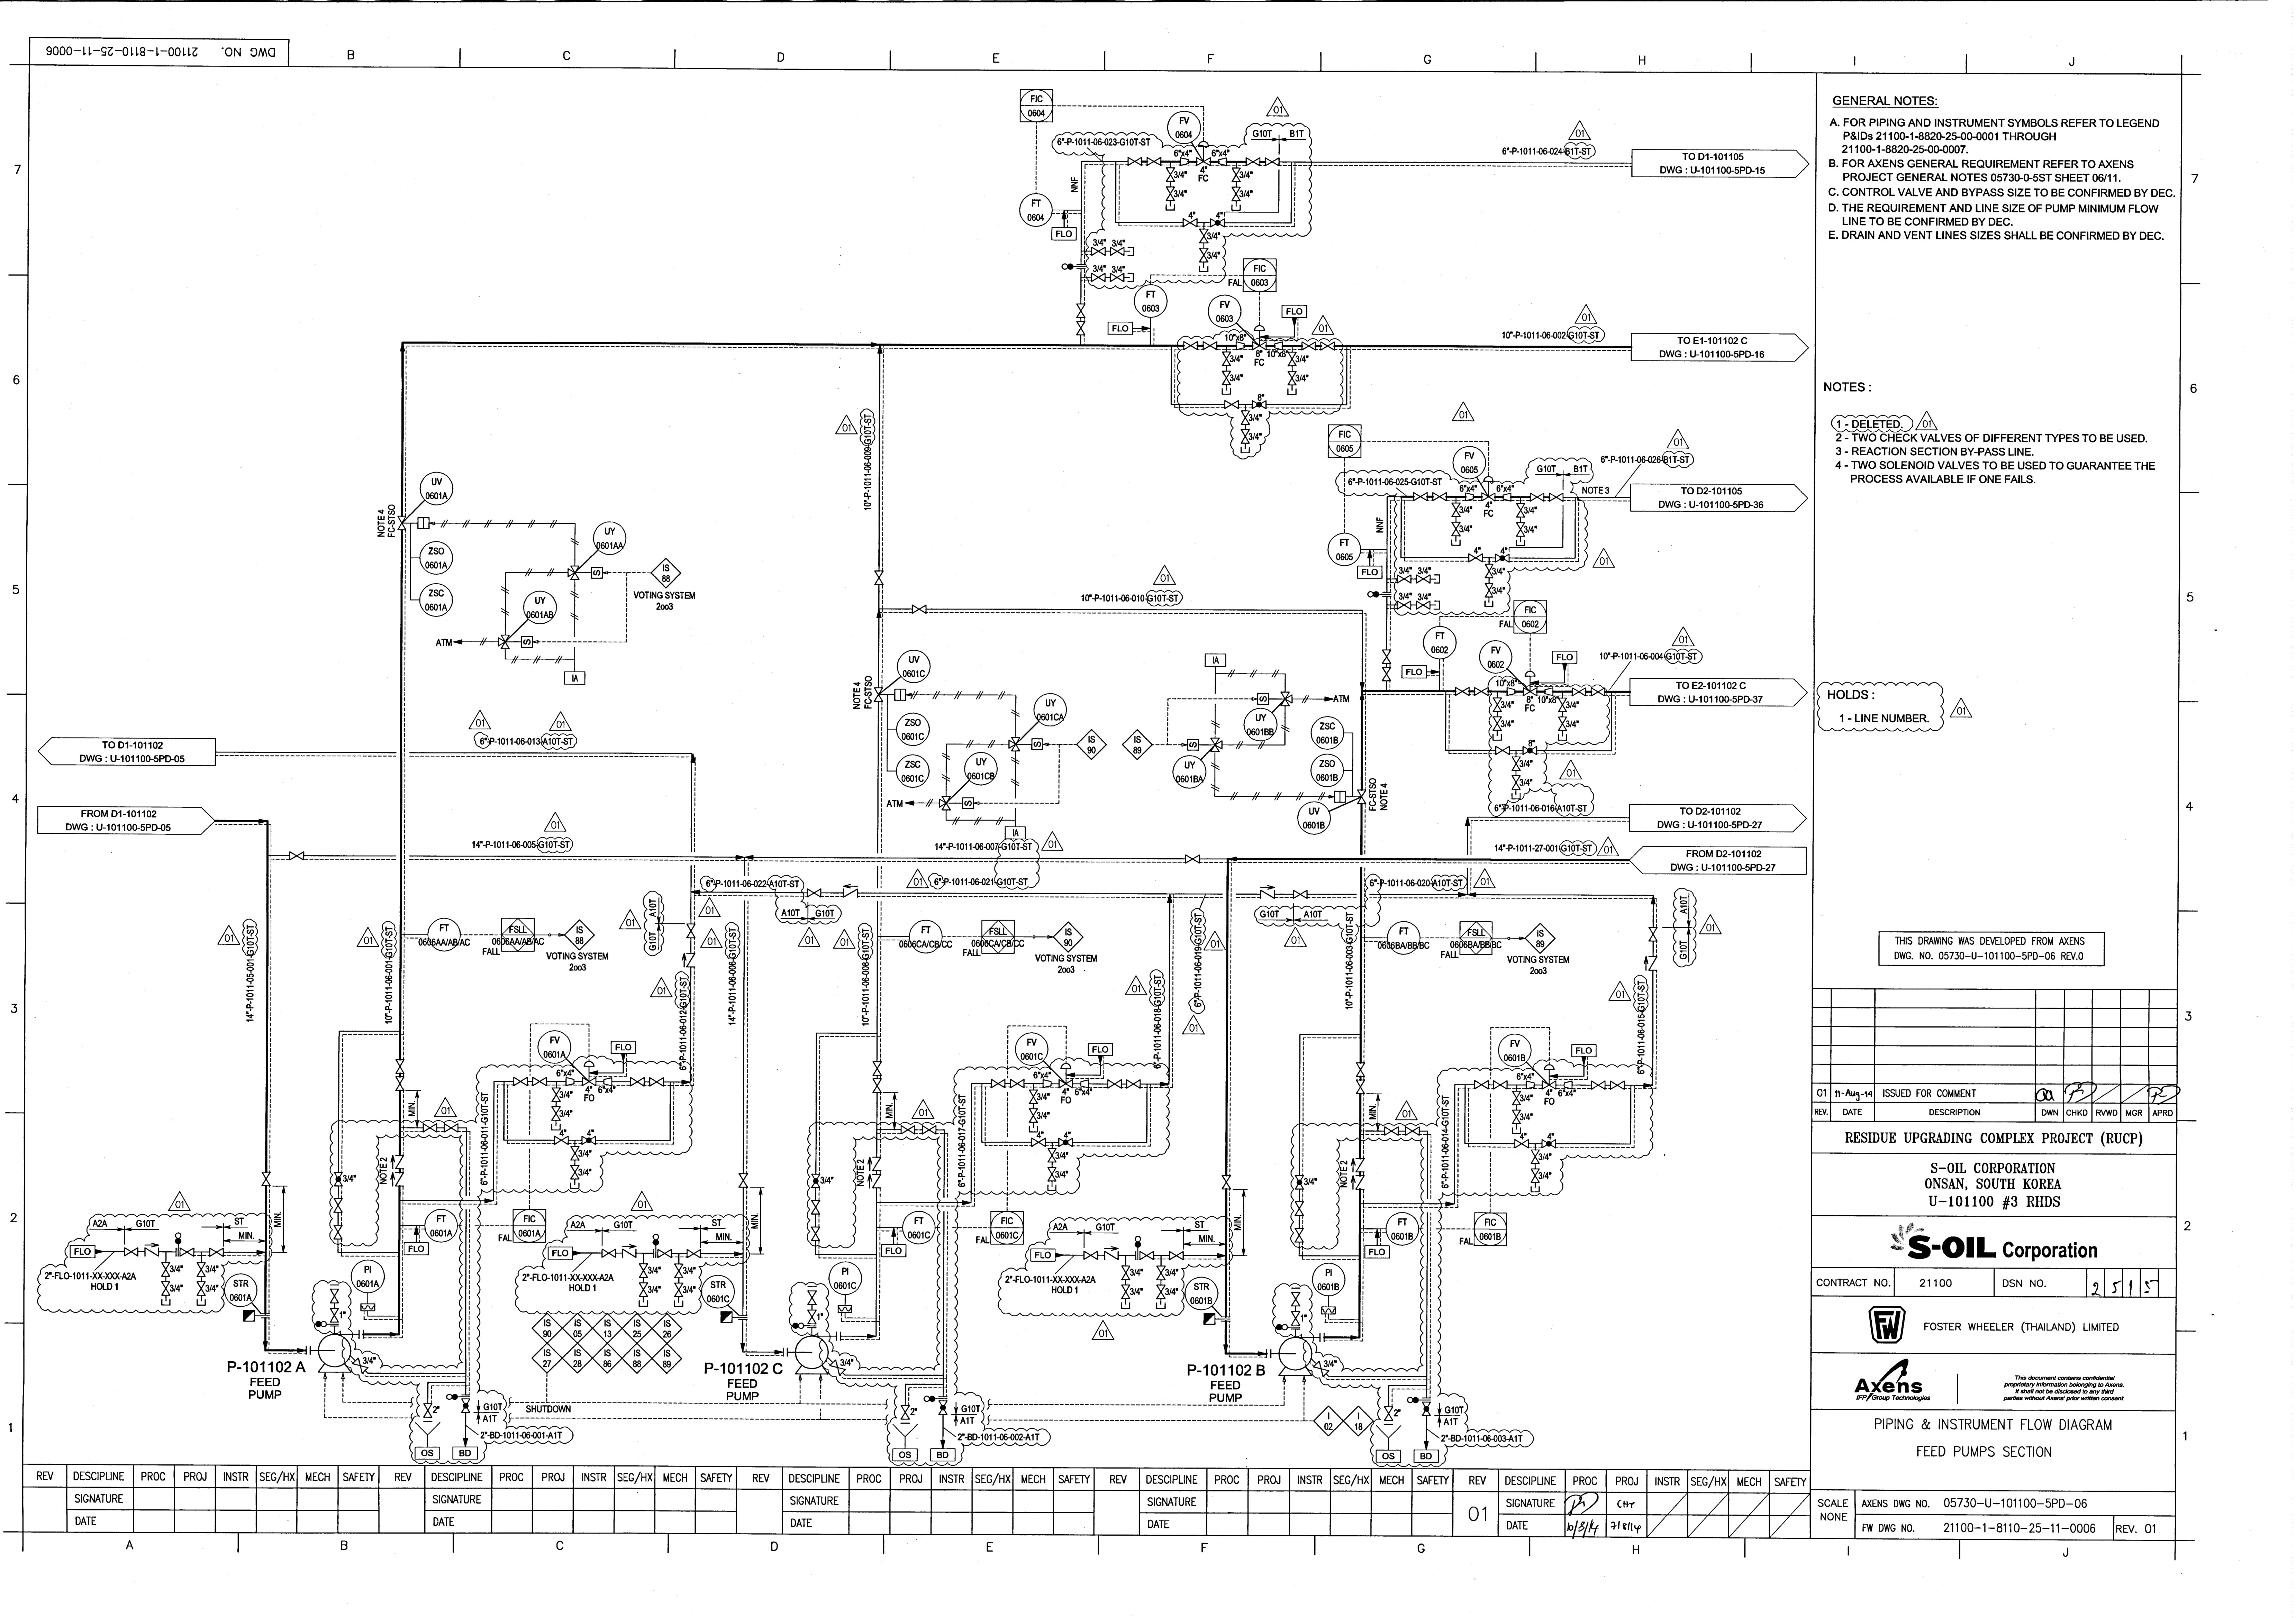NAS: (1312, 1404, 1345, 1438), (1254, 688, 1296, 709), (1186, 735, 1226, 755), (1328, 788, 1368, 807), (1275, 1361, 1298, 1378), (1441, 1432, 1462, 1446), (1487, 734, 1510, 744), (1301, 1362, 1315, 1378), (1321, 1305, 1336, 1317), (1317, 1331, 1328, 1345), (1406, 1394, 1420, 1404), (1198, 264, 1210, 273), (1165, 203, 1177, 212), (1126, 245, 1135, 257), (1285, 387, 1298, 396), (1483, 599, 1496, 608), (1557, 734, 1569, 742), (1529, 1185, 1541, 1194), (1229, 205, 1242, 212), (1126, 271, 1133, 284), (1515, 539, 1527, 546), (196, 1299, 208, 1306), (159, 1299, 172, 1306), (1240, 447, 1250, 454)
butterfly0: (1520, 744, 1541, 756), (1539, 1138, 1559, 1150), (1208, 217, 1228, 228), (581, 1135, 597, 1147), (1250, 399, 1268, 410), (1494, 553, 1511, 564), (1522, 744, 1538, 755)
butterfly90: (1420, 1401, 1431, 1418), (1294, 1173, 1305, 1191), (461, 1397, 471, 1415), (333, 1171, 343, 1189), (937, 1399, 947, 1415), (811, 1173, 821, 1189)
reduce0: (1179, 156, 1191, 166), (1464, 492, 1476, 503), (564, 1077, 576, 1087), (1506, 686, 1517, 697), (1525, 1080, 1536, 1091), (1042, 1079, 1053, 1089), (1235, 341, 1247, 350)
reduce180: (1501, 492, 1513, 503), (1543, 686, 1555, 697), (1564, 1079, 1574, 1091), (1079, 1079, 1089, 1089), (1273, 341, 1284, 350), (602, 1077, 613, 1086)
valvecontrol180: (1217, 156, 1229, 168)
valvecontrol90: (580, 1061, 599, 1087), (1480, 475, 1497, 503), (1541, 1063, 1559, 1091), (1058, 1061, 1075, 1089), (1194, 140, 1212, 166), (1250, 324, 1268, 350)
valvegate0: (1429, 490, 1450, 503), (1291, 888, 1310, 900), (1608, 1079, 1627, 1091), (1263, 156, 1280, 168), (1089, 245, 1107, 257), (1109, 245, 1126, 257), (1182, 340, 1200, 352), (1201, 340, 1219, 352), (1412, 490, 1429, 503), (1468, 552, 1485, 564), (1396, 573, 1413, 585), (1415, 599, 1433, 611), (1494, 744, 1511, 756), (1473, 1079, 1490, 1091), (1492, 1079, 1510, 1091), (1513, 1138, 1531, 1150), (208, 1247, 226, 1259), (1243, 156, 1263, 166), (1403, 1126, 1422, 1136), (1126, 156, 1144, 166), (1145, 156, 1163, 166), (1182, 217, 1200, 228), (1089, 271, 1107, 282), (1109, 271, 1126, 282), (1319, 341, 1336, 352), (1222, 399, 1240, 410), (1529, 492, 1546, 503), (1548, 492, 1566, 503), (1415, 574, 1433, 585), (1396, 601, 1413, 611), (1454, 686, 1471, 697), (1473, 686, 1490, 697), (1590, 1080, 1608, 1091), (1301, 341, 1317, 352), (1571, 686, 1587, 697), (1590, 686, 1606, 697), (1384, 1126, 1399, 1136), (179, 1247, 194, 1257)
valvegate90: (1646, 925, 1659, 944), (1165, 166, 1177, 184), (1229, 186, 1242, 203), (1198, 228, 1210, 245), (1221, 350, 1233, 368), (1450, 520, 1462, 538), (1510, 774, 1522, 791), (1289, 1291, 1301, 1308), (422, 1403, 434, 1420), (1557, 695, 1567, 714), (1165, 186, 1175, 203), (1231, 166, 1242, 184), (1198, 247, 1208, 264), (1287, 350, 1298, 368), (1287, 369, 1298, 387), (1450, 501, 1461, 518), (1515, 503, 1525, 520), (1515, 520, 1525, 538), (1483, 562, 1494, 580), (1483, 581, 1494, 599), (1382, 648, 1392, 665), (1382, 665, 1392, 683), (1492, 695, 1503, 713), (1492, 714, 1503, 732), (1511, 1089, 1522, 1107), (1511, 1108, 1522, 1126), (1531, 1149, 1541, 1166), (1356, 1061, 1366, 1079), (1356, 1079, 1366, 1096), (1294, 1199, 1305, 1217), (1291, 1310, 1301, 1327), (161, 1261, 172, 1278), (196, 1261, 207, 1278), (394, 1058, 405, 1075), (394, 1075, 405, 1093), (1075, 303, 1086, 319), (1075, 320, 1086, 336), (1221, 369, 1231, 385), (1240, 410, 1250, 426), (1240, 429, 1250, 445), (1557, 716, 1567, 732), (1531, 1168, 1541, 1184), (1384, 1406, 1394, 1422), (1294, 1228, 1305, 1243), (900, 1404, 911, 1420), (196, 1280, 207, 1296), (161, 1280, 172, 1296), (333, 1198, 343, 1213), (333, 1224, 343, 1240), (329, 1289, 340, 1305), (329, 1308, 340, 1324), (1511, 755, 1520, 772)
